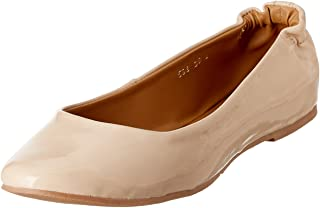shoes: (1, 1, 317, 208)
